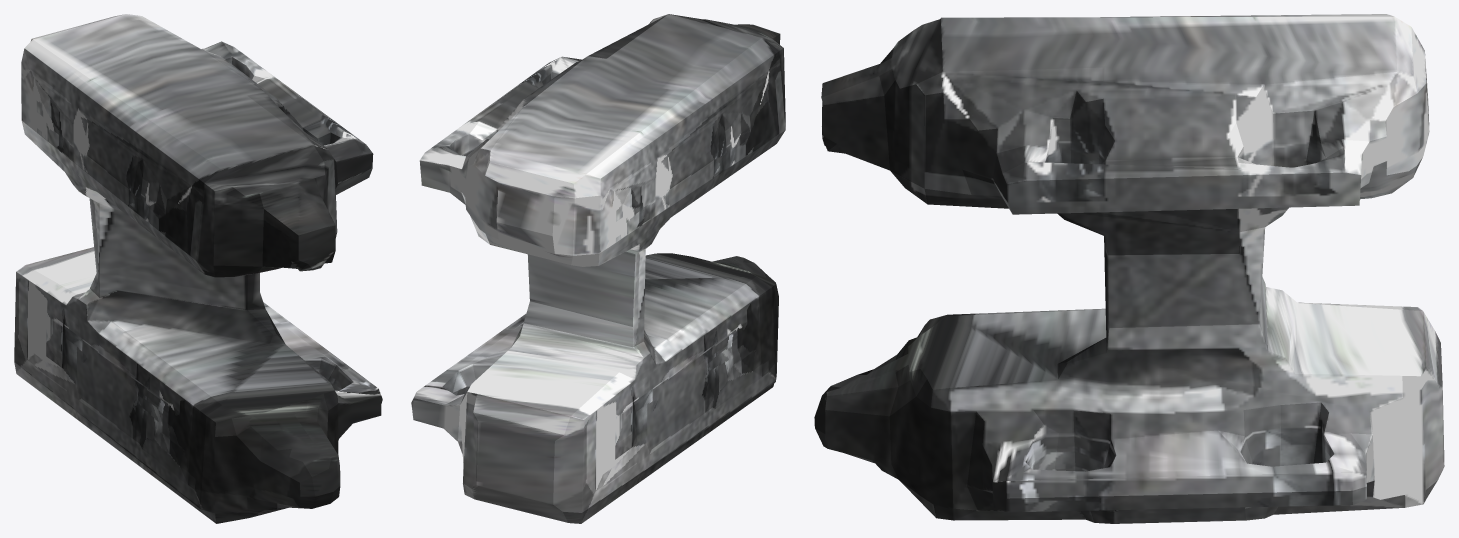
Rendered from jetpack.glb.
3 views of the same model, side by side, from view 1: azimuth 30°, elevation 25°; view 2: azimuth 150°, elevation 25°; view 3: azimuth 270°, elevation 25° (orthographic). The views are drawn at different scales.
Parts seen in each view (by area): view 1: node_id4.002; view 2: node_id4.002; view 3: node_id4.002.
Boxes of the visible parts, x1,y1,x2,y2 form: node_id4.002: [14, 14, 382, 523]; node_id4.002: [411, 14, 785, 523]; node_id4.002: [814, 14, 1444, 523].
Size of the model in its own units: 1.03 by 1.65 by 2.13.
1 material, 1 textured.
